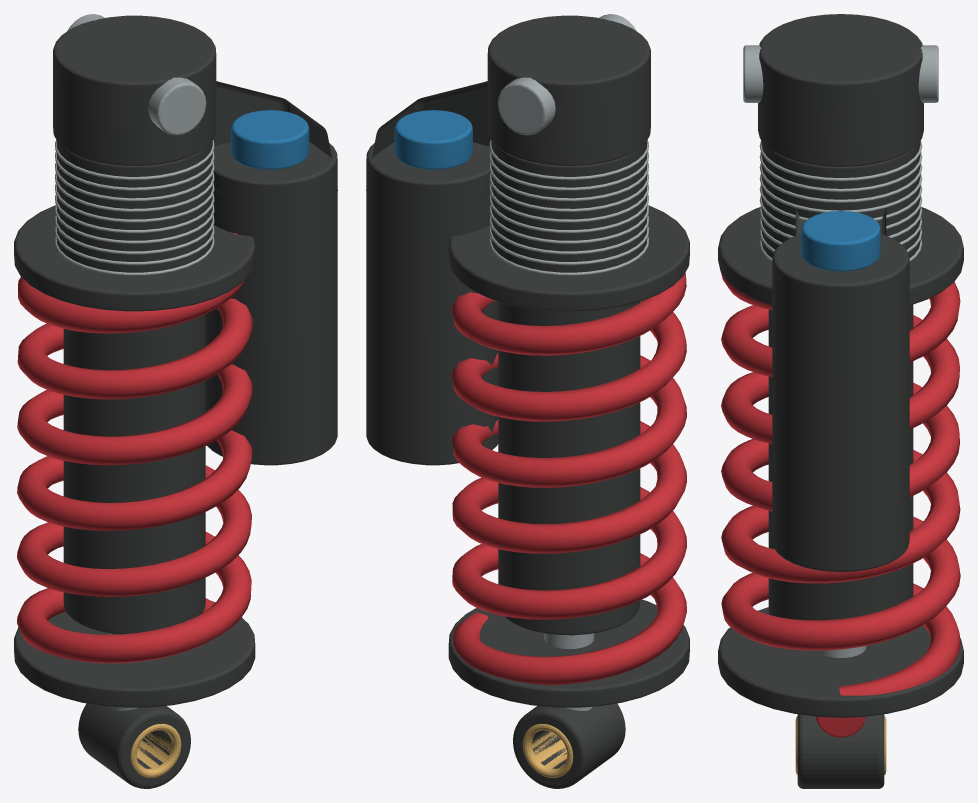
The model's file is rockshox-vivid-coil-ultimate-d1--02d9d0e0.glb.
3 views of the same model, side by side, from view 1: azimuth 30°, elevation 25°; view 2: azimuth 150°, elevation 25°; view 3: azimuth 270°, elevation 25° (orthographic).
Visible parts, largest first — view 1: rockshox-vivid-coil-ultimate-d1--02d9d0e0__link, rockshox-vivid-coil-ultimate-d1--02d9d0e0__rebound, rockshox-vivid-coil-ultimate-d1--02d9d0e0__bolts, rockshox-vivid-coil-ultimate-d1--02d9d0e0__adjuster, rockshox-vivid-coil-ultimate-d1--02d9d0e0__stanchions; view 2: rockshox-vivid-coil-ultimate-d1--02d9d0e0__link, rockshox-vivid-coil-ultimate-d1--02d9d0e0__rebound, rockshox-vivid-coil-ultimate-d1--02d9d0e0__bolts, rockshox-vivid-coil-ultimate-d1--02d9d0e0__adjuster, rockshox-vivid-coil-ultimate-d1--02d9d0e0__stanchions; view 3: rockshox-vivid-coil-ultimate-d1--02d9d0e0__link, rockshox-vivid-coil-ultimate-d1--02d9d0e0__rebound, rockshox-vivid-coil-ultimate-d1--02d9d0e0__bolts, rockshox-vivid-coil-ultimate-d1--02d9d0e0__adjuster.
Part boxes in pixels (<box>): rockshox-vivid-coil-ultimate-d1--02d9d0e0__link: <box>14,15,337,788</box>; rockshox-vivid-coil-ultimate-d1--02d9d0e0__rebound: <box>17,233,252,663</box>; rockshox-vivid-coil-ultimate-d1--02d9d0e0__bolts: <box>55,14,214,710</box>; rockshox-vivid-coil-ultimate-d1--02d9d0e0__adjuster: <box>231,110,309,169</box>; rockshox-vivid-coil-ultimate-d1--02d9d0e0__stanchions: <box>130,723,181,777</box>; rockshox-vivid-coil-ultimate-d1--02d9d0e0__link: <box>366,15,689,788</box>; rockshox-vivid-coil-ultimate-d1--02d9d0e0__rebound: <box>451,272,686,685</box>; rockshox-vivid-coil-ultimate-d1--02d9d0e0__bolts: <box>489,14,648,710</box>; rockshox-vivid-coil-ultimate-d1--02d9d0e0__adjuster: <box>394,110,472,169</box>; rockshox-vivid-coil-ultimate-d1--02d9d0e0__stanchions: <box>522,723,573,777</box>; rockshox-vivid-coil-ultimate-d1--02d9d0e0__link: <box>718,14,963,788</box>; rockshox-vivid-coil-ultimate-d1--02d9d0e0__rebound: <box>721,273,960,737</box>; rockshox-vivid-coil-ultimate-d1--02d9d0e0__bolts: <box>743,45,938,657</box>; rockshox-vivid-coil-ultimate-d1--02d9d0e0__adjuster: <box>801,211,880,271</box>.
Size of the model in its own units: 0.097 by 0.225 by 0.068.
